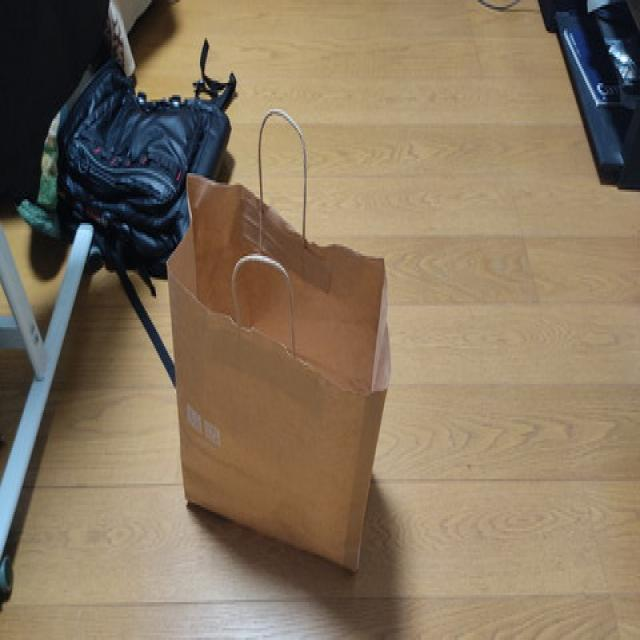paper bag: (163, 94, 396, 584)
